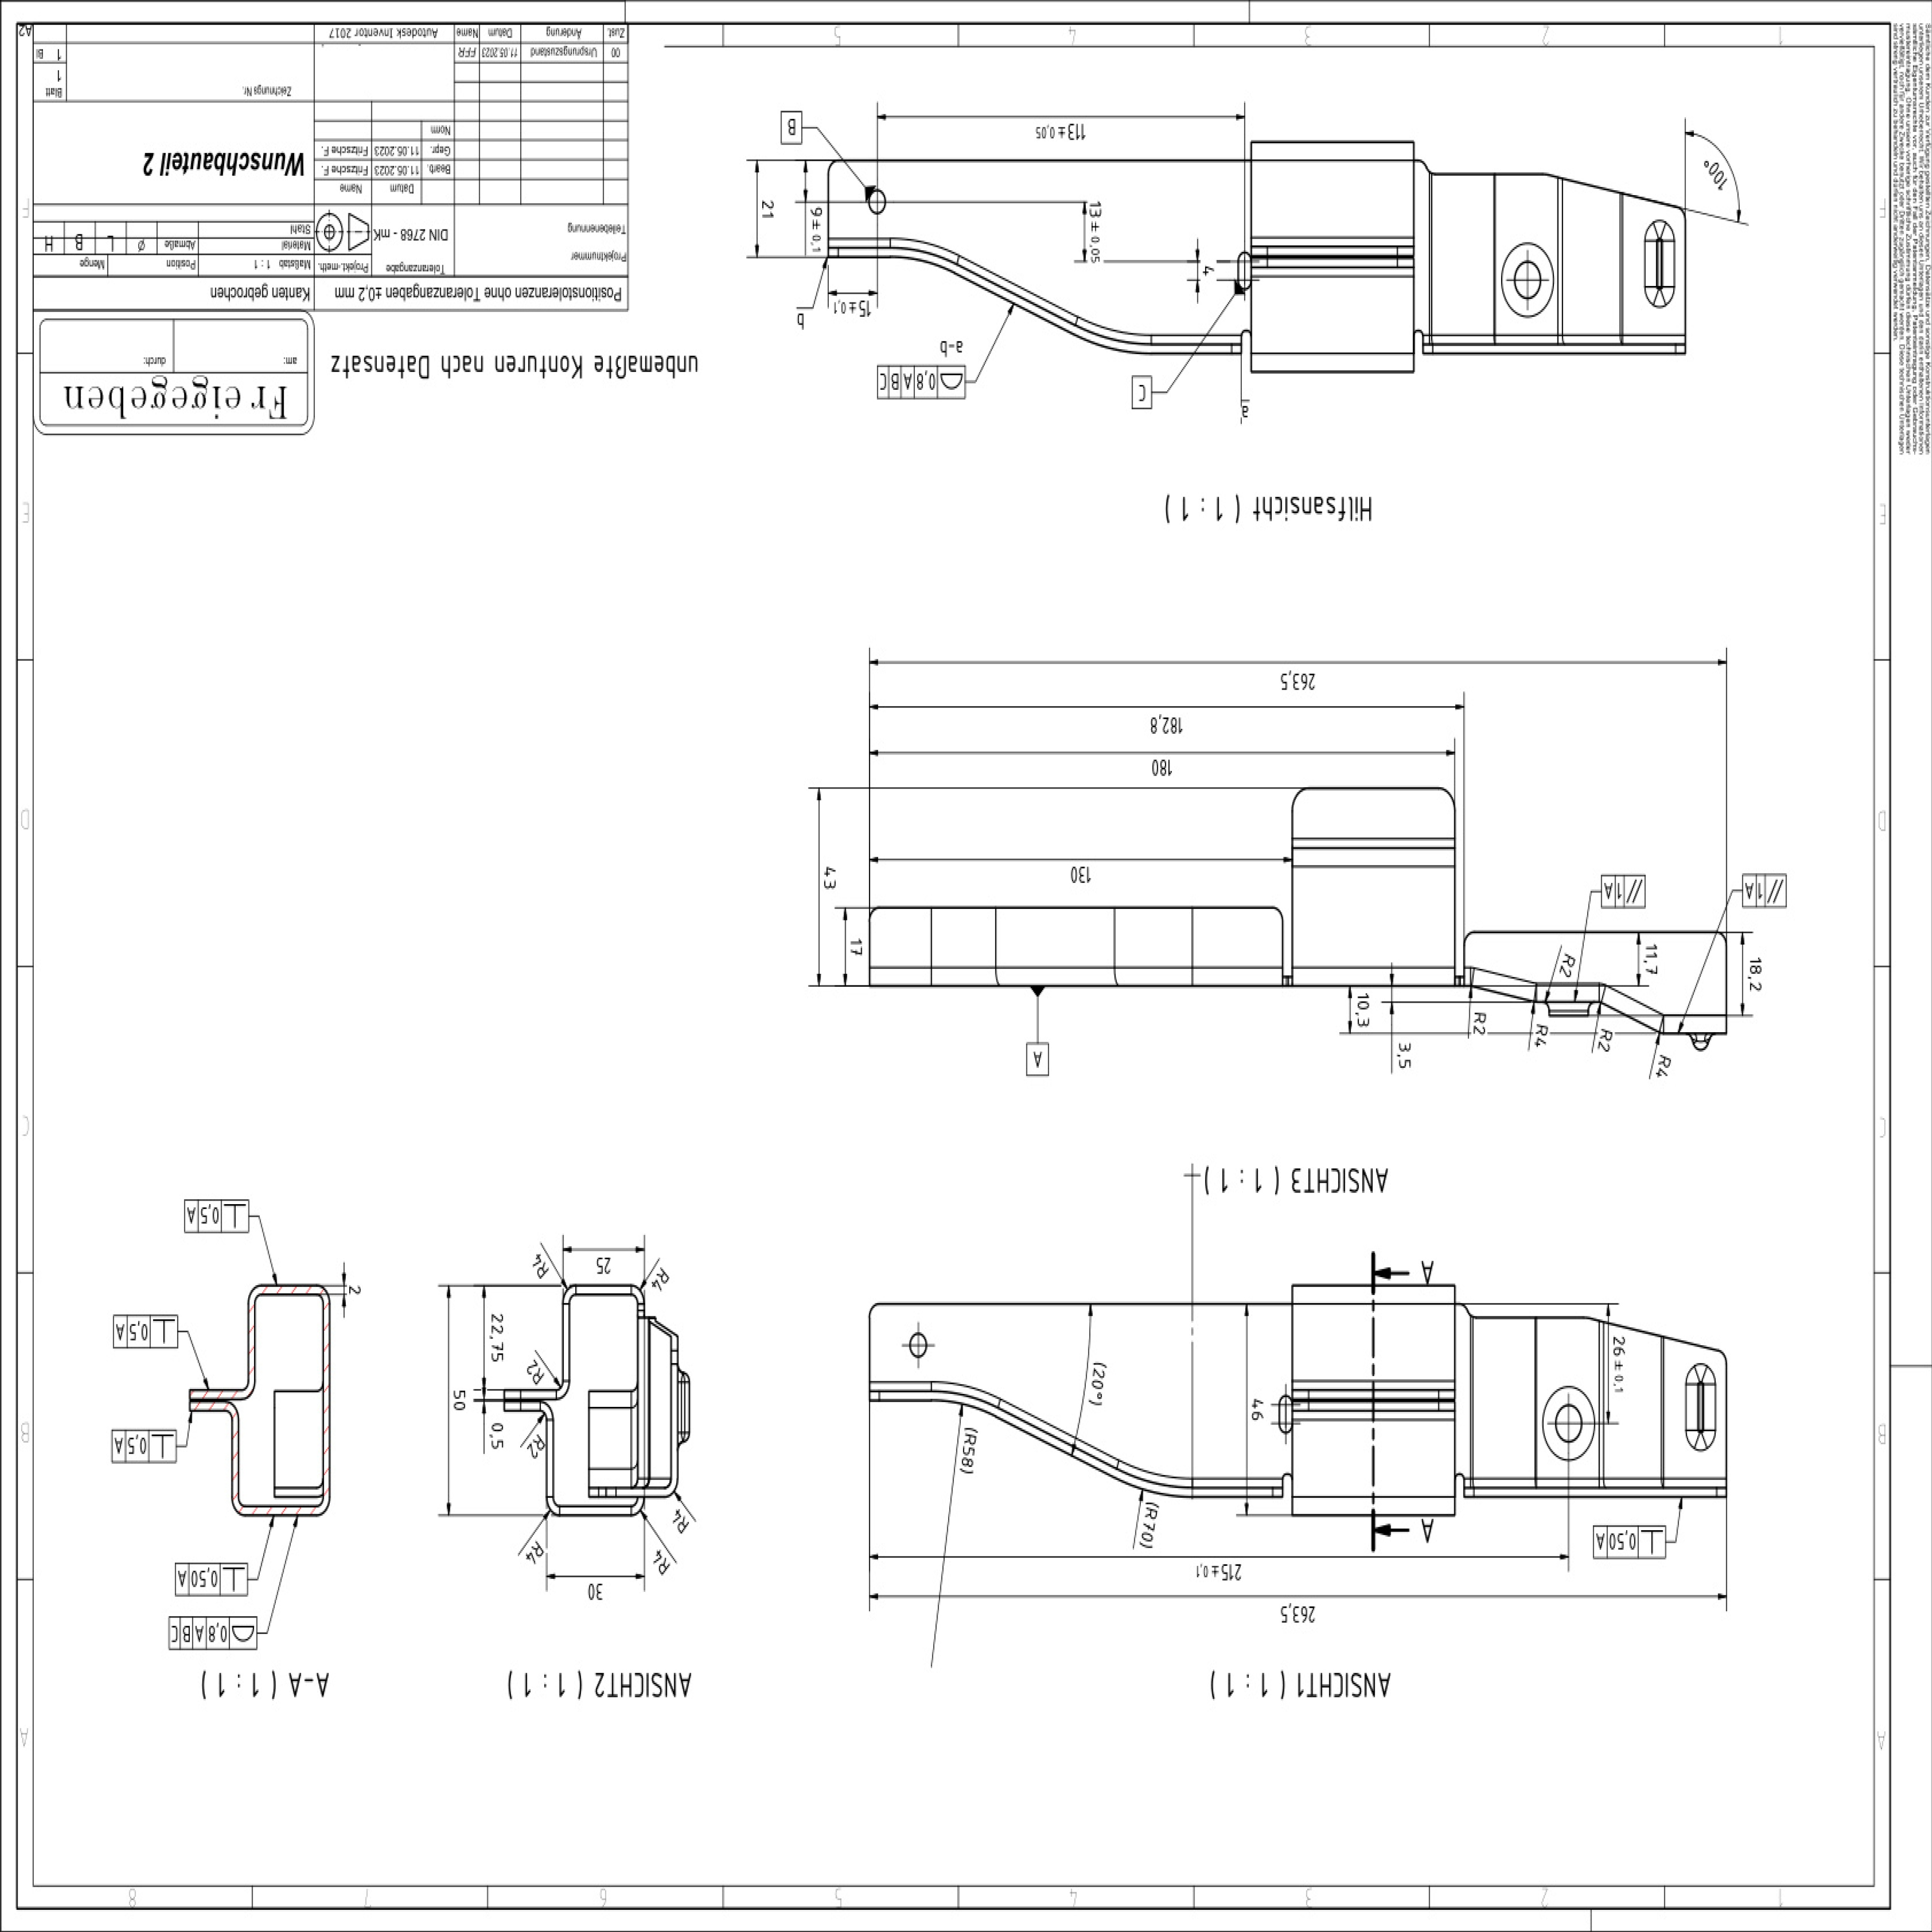3dBending: (862, 1357, 1292, 1529), (819, 218, 1249, 382)
BendingEdge: (1254, 232, 1415, 281), (1249, 133, 1414, 165), (1254, 349, 1414, 377), (1292, 962, 1454, 984), (1292, 846, 1454, 867), (1293, 833, 1454, 847), (1555, 177, 1564, 334), (1617, 193, 1624, 336), (1491, 177, 1497, 338), (1428, 173, 1433, 334), (1594, 982, 1608, 1001), (1530, 980, 1541, 1001), (1467, 966, 1477, 985), (1658, 1016, 1667, 1031)
BendingEdgeCurve: (541, 1493, 563, 1516), (626, 1283, 646, 1307), (559, 1284, 580, 1304), (628, 1497, 646, 1518), (540, 1399, 556, 1422), (554, 1380, 571, 1399)
Embossment: (1684, 1359, 1718, 1454), (1645, 218, 1674, 315), (1686, 1033, 1714, 1054)
InnerContour: (1235, 249, 1251, 290), (908, 1330, 929, 1361), (1277, 1392, 1292, 1437), (869, 188, 888, 214)
ThroughHole: (1541, 1382, 1596, 1463), (1502, 241, 1555, 320)
ThroughHoleExternal: (676, 1364, 692, 1449), (1543, 1001, 1592, 1017)
